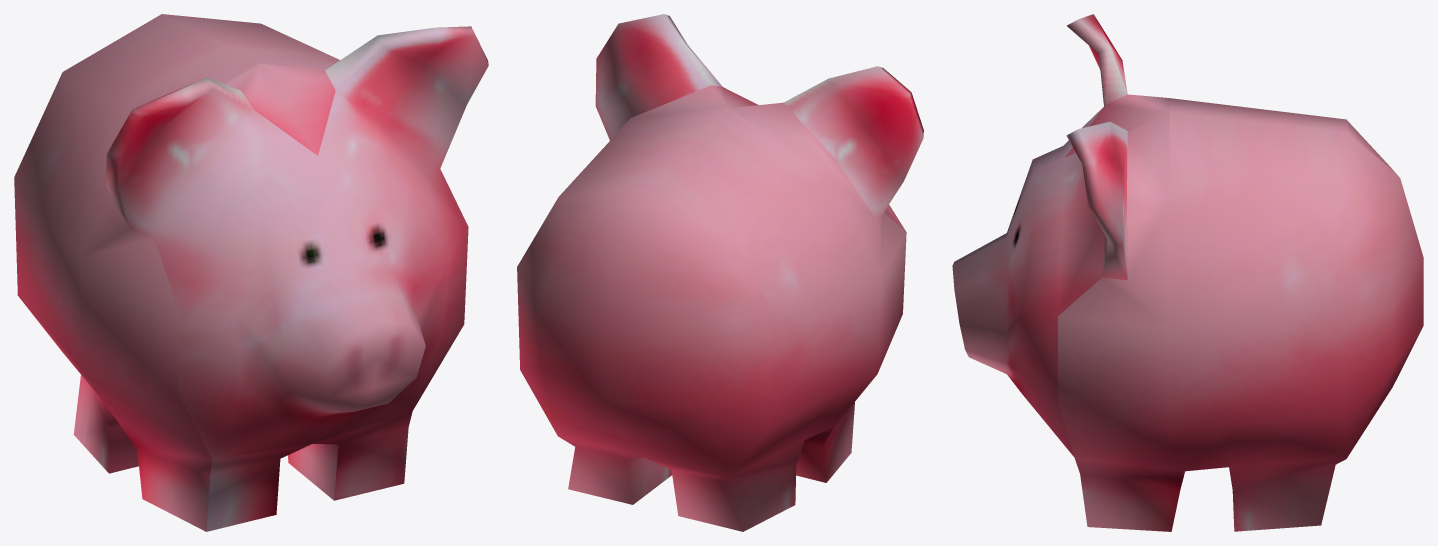
File: piggy_bank.FBX
The picture shows the model from 3 angles, left to right: view 1: azimuth 30°, elevation 25°; view 2: azimuth 150°, elevation 25°; view 3: azimuth 270°, elevation 25°; orthographic projection. The views are drawn at different scales.
Visible parts, largest first — view 1: piggy_bank; view 2: piggy_bank; view 3: piggy_bank.
Part boxes in pixels (bbox=[...]): piggy_bank: bbox=[14, 14, 488, 531]; piggy_bank: bbox=[517, 14, 923, 531]; piggy_bank: bbox=[952, 14, 1423, 531].
Bounding box in the file's own units: 36.79 × 41.8 × 43.61.
